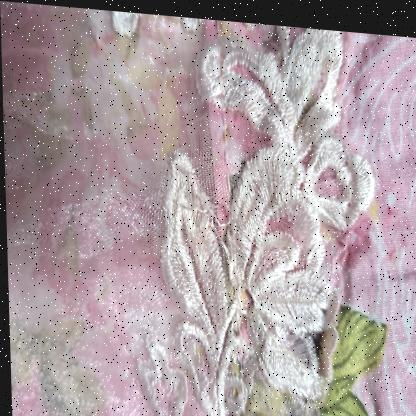spot: (384, 194, 393, 210)
